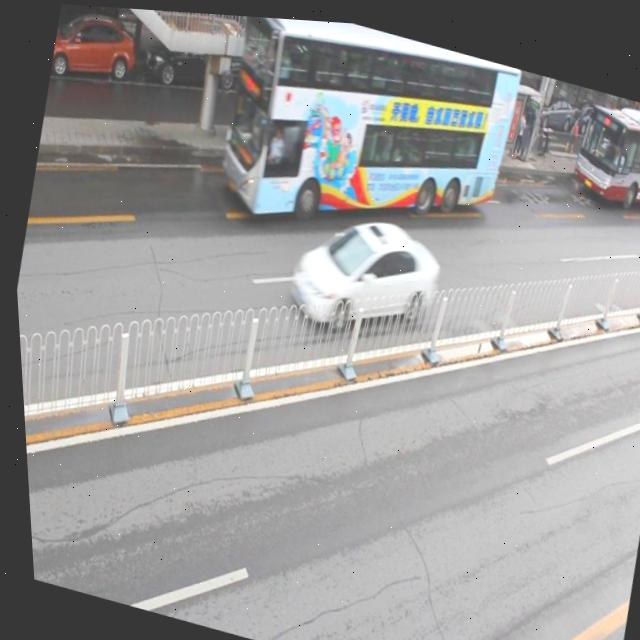car: (276, 192, 444, 349), (141, 10, 250, 94), (47, 2, 143, 88), (325, 30, 413, 106), (250, 19, 330, 98)
van: (205, 11, 529, 271), (565, 85, 640, 211)
